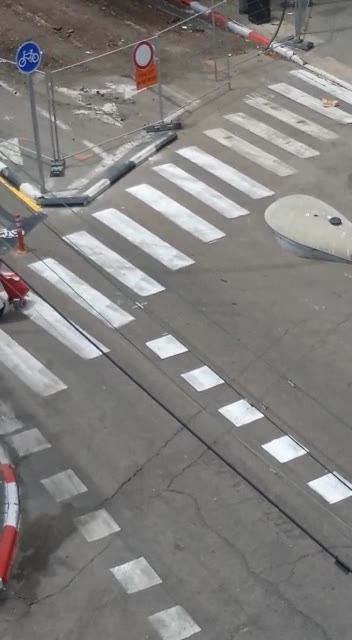crosswalk: (66, 65, 278, 326)
